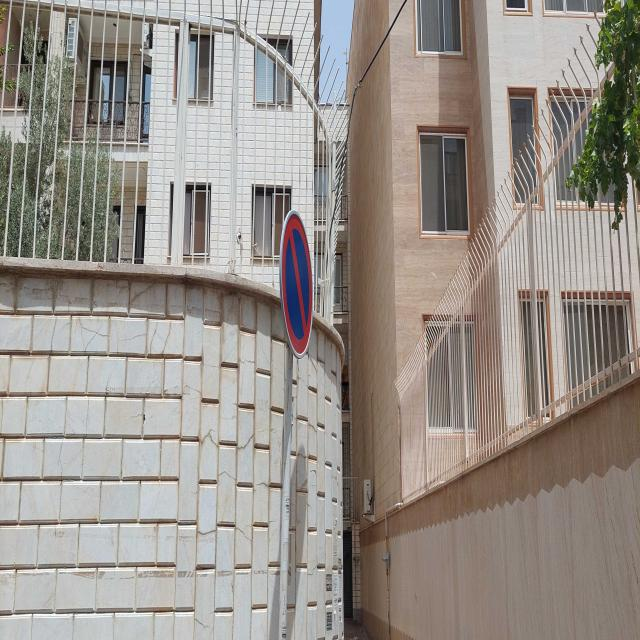forb_stopping: (279, 210, 314, 359)
